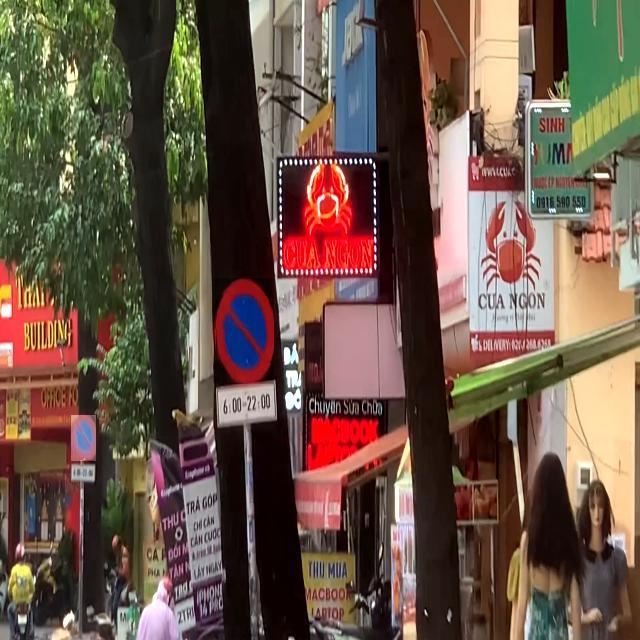P-131a: (215, 278, 275, 384), (71, 416, 96, 462)
